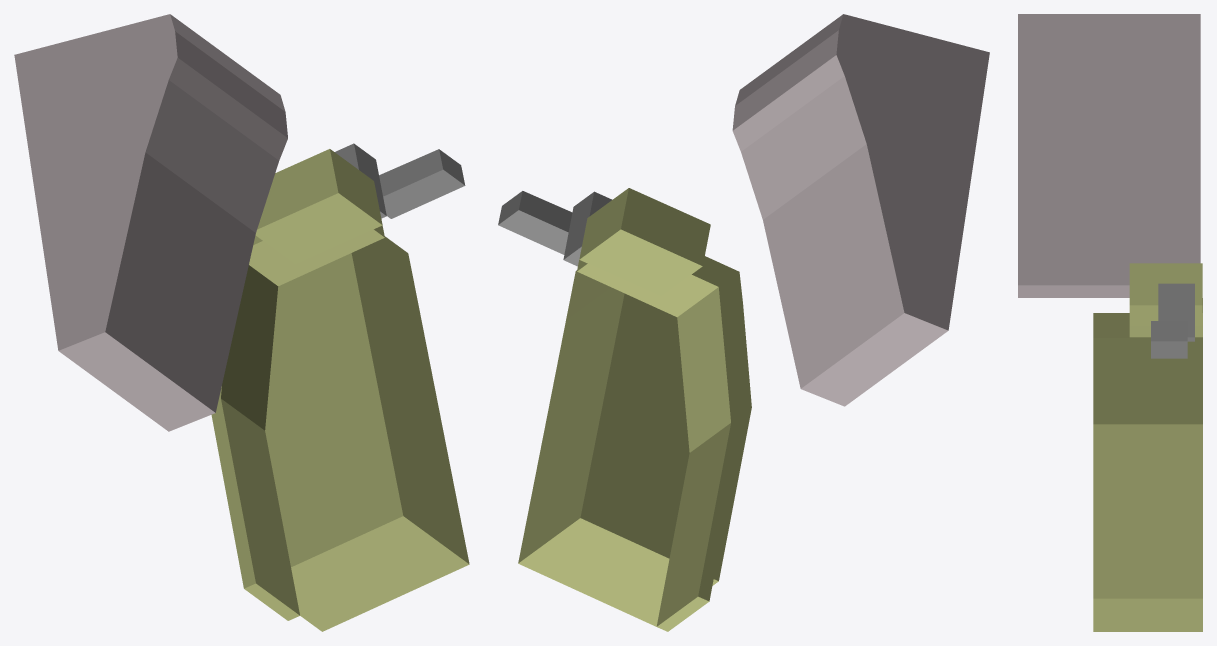
3 renders of one model, left to right at view 1: azimuth 30°, elevation 25°; view 2: azimuth 150°, elevation 25°; view 3: azimuth 270°, elevation 25°, orthographic. The views are drawn at different scales.
Parts seen in each view (by area): view 1: 0_2_0_1_1_2_1_1_1; view 2: 0_2_0_1_1_2_1_1_1; view 3: 0_2_0_1_1_2_1_1_1.
Boxes of the visible parts, box(x1,y1,x2,y2) form: 0_2_0_1_1_2_1_1_1: box(14, 14, 469, 631); 0_2_0_1_1_2_1_1_1: box(498, 14, 989, 631); 0_2_0_1_1_2_1_1_1: box(1018, 14, 1202, 631).
Bounding box in the file's own units: 32.99 × 44.49 × 15.17.
